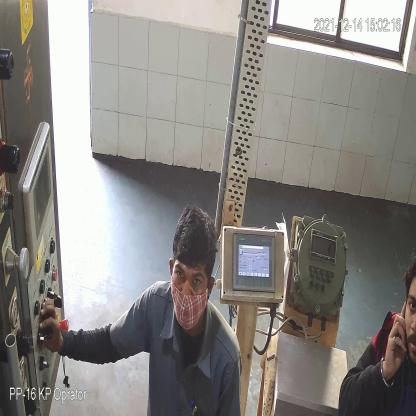no_goggles: (173, 260, 206, 292)
